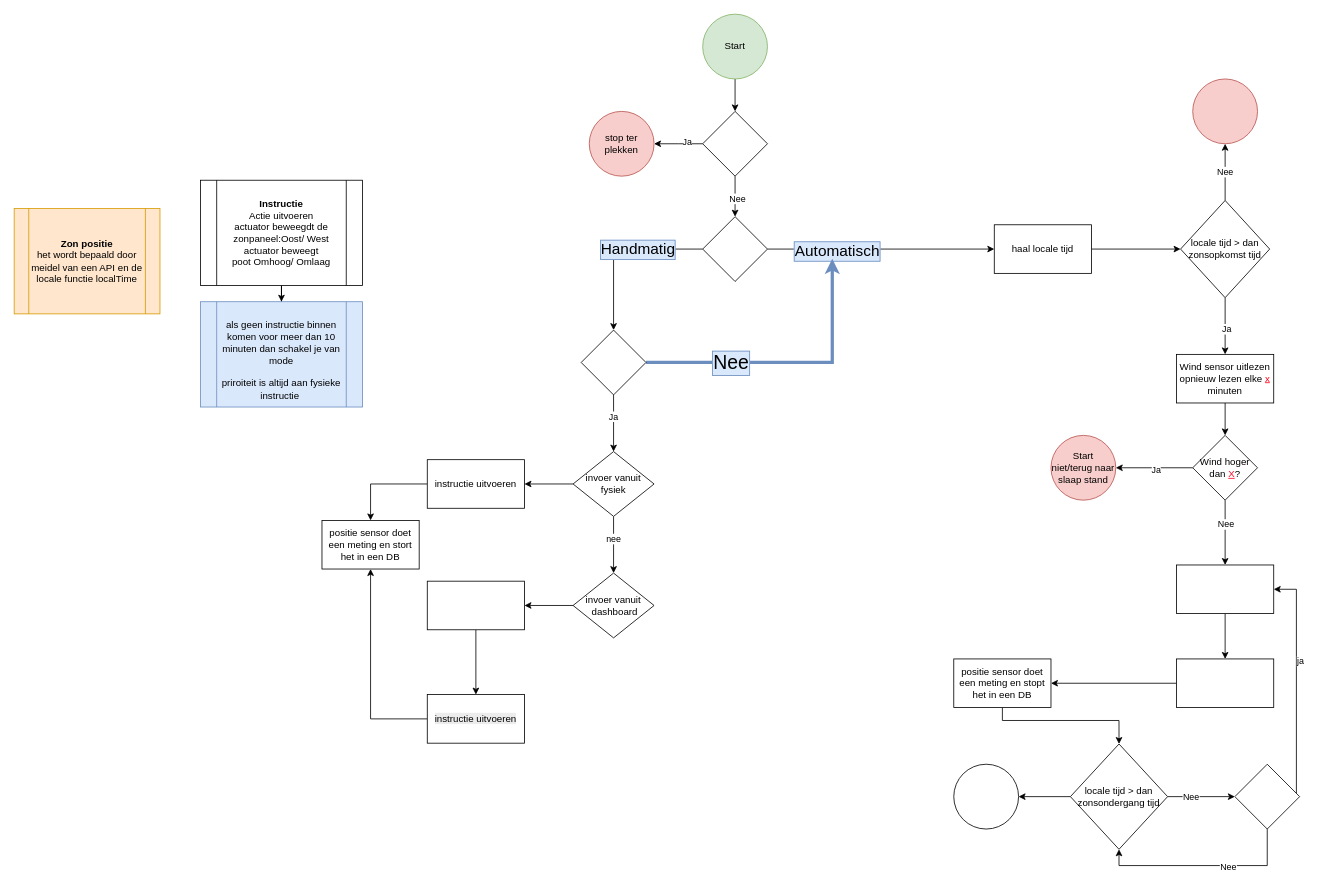
Image size: 1318x887. Some labels were removed from this diagram. The centre of each missing label's shape, as x and y in pixels:
API ( niet zeker moet onderzoeken ): (x=475, y=605)
insturctie binnen: (x=613, y=362)
is er een uur voorbij: (x=1267, y=796)
Mode: (x=734, y=248)
Nood stopp: (x=734, y=143)
positioneer: (x=1225, y=683)
zon is onder bij in slaap stand: (x=1225, y=111)
zon is onder slaap stand is aan: (x=986, y=796)
Zon positie berekenen: (x=1225, y=589)
